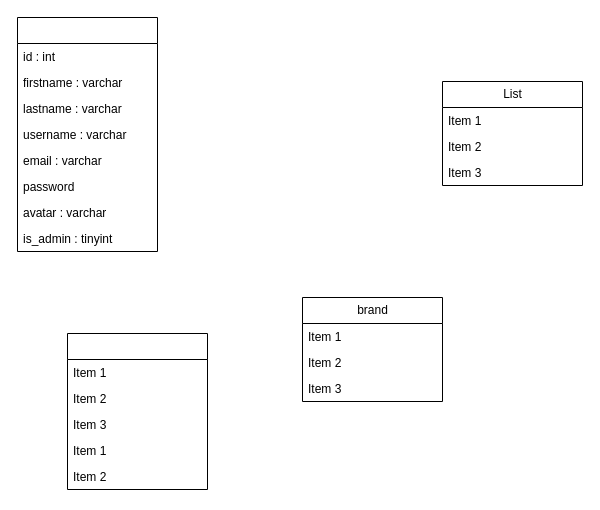
Image size: 600x510. Some labels were removed from this diagram. Here are the shapes that lost their labels. From the top down, the box of each, then its label:
(16, 16, 158, 252): users
(66, 332, 208, 490): products
